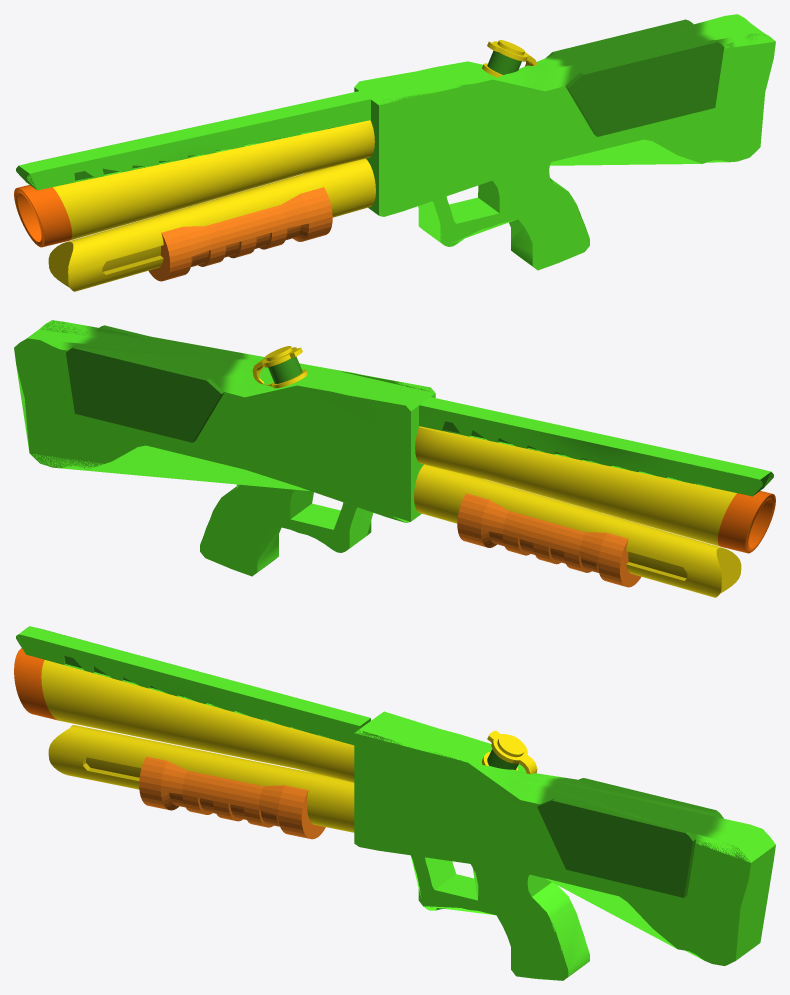
Rendered from Escopetashade.fbx.
The picture shows the model from 3 angles, top to bottom: view 1: azimuth 30°, elevation 25°; view 2: azimuth 150°, elevation 25°; view 3: azimuth 330°, elevation 25°; orthographic projection.
Parts seen in each view (by area): view 1: Cylinder.002, Cylinder.001; view 2: Cylinder.002, Cylinder.001; view 3: Cylinder.002, Cylinder.001.
Part boxes in pixels (x1,y1,x2,y2): Cylinder.002: (14,14,775,291); Cylinder.001: (148,187,332,281); Cylinder.002: (14,320,775,597); Cylinder.001: (457,493,641,587); Cylinder.002: (14,626,775,980); Cylinder.001: (139,756,325,839).
Size of the model in its own units: 308 by 90.19 by 22.43.
2 materials, 2 textured.
